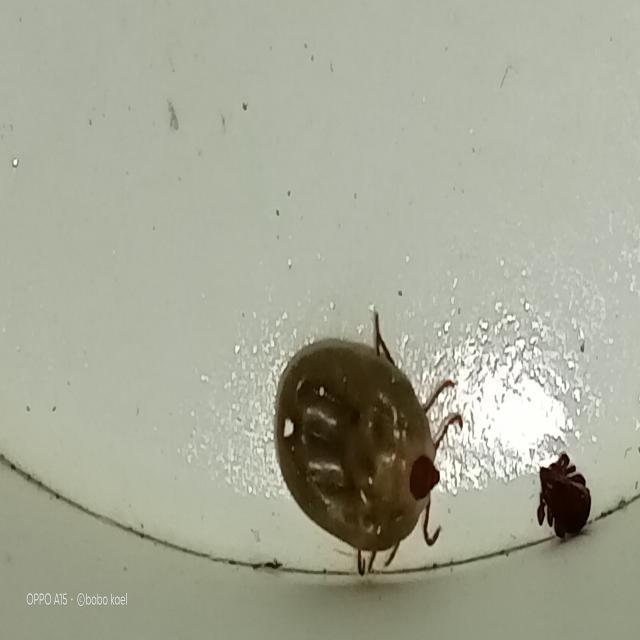Rhipicephalus Sanguineus-F-Fed: (274, 312, 464, 577)
